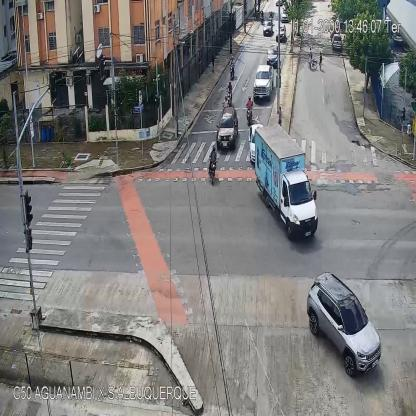bicycle: (308, 48, 318, 68)
car: (307, 272, 382, 380), (216, 108, 236, 150), (254, 65, 273, 98), (267, 46, 278, 70), (276, 26, 286, 41), (332, 35, 342, 49), (264, 19, 272, 35), (281, 9, 289, 24)
motorbike: (209, 147, 215, 187), (246, 96, 253, 128), (226, 81, 232, 105), (230, 56, 235, 80), (222, 96, 228, 107), (260, 10, 264, 26), (270, 11, 274, 26)
person: (211, 50, 215, 72), (319, 51, 323, 71), (342, 35, 346, 54)
truck: (254, 124, 318, 238)
